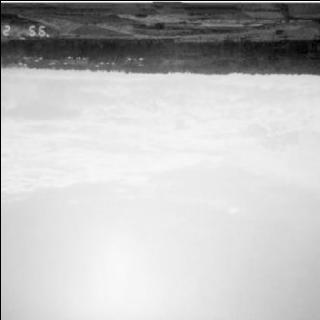Cirrostratus: (0, 62, 320, 320)
